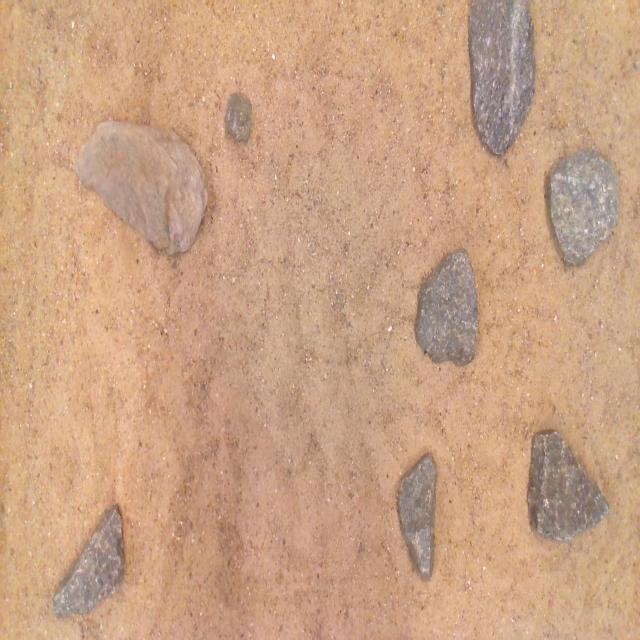rock: (77, 121, 207, 254), (469, 0, 535, 153), (528, 431, 608, 540), (53, 505, 125, 616), (550, 151, 619, 265), (415, 249, 477, 366), (399, 453, 436, 580), (224, 92, 251, 142)
